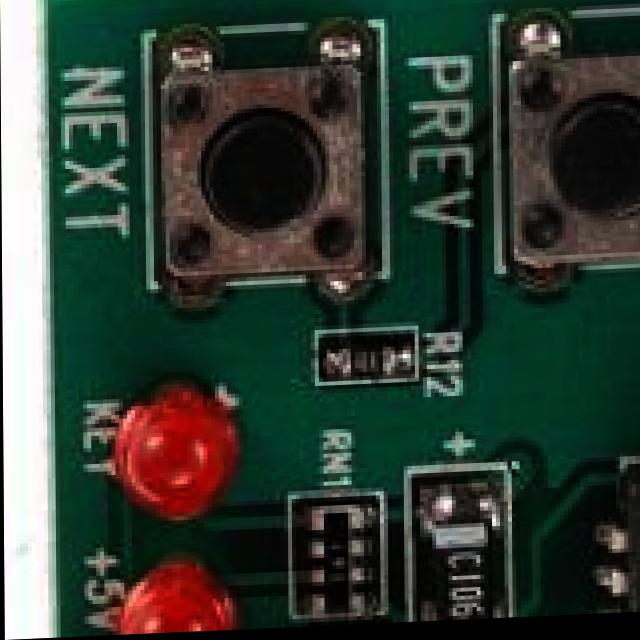IC: (611, 486, 640, 619)
LED: (100, 382, 231, 509), (103, 552, 236, 637)
resistor: (411, 470, 508, 626), (307, 499, 364, 629), (326, 336, 402, 381)
switch: (164, 13, 378, 286), (496, 34, 640, 279)
